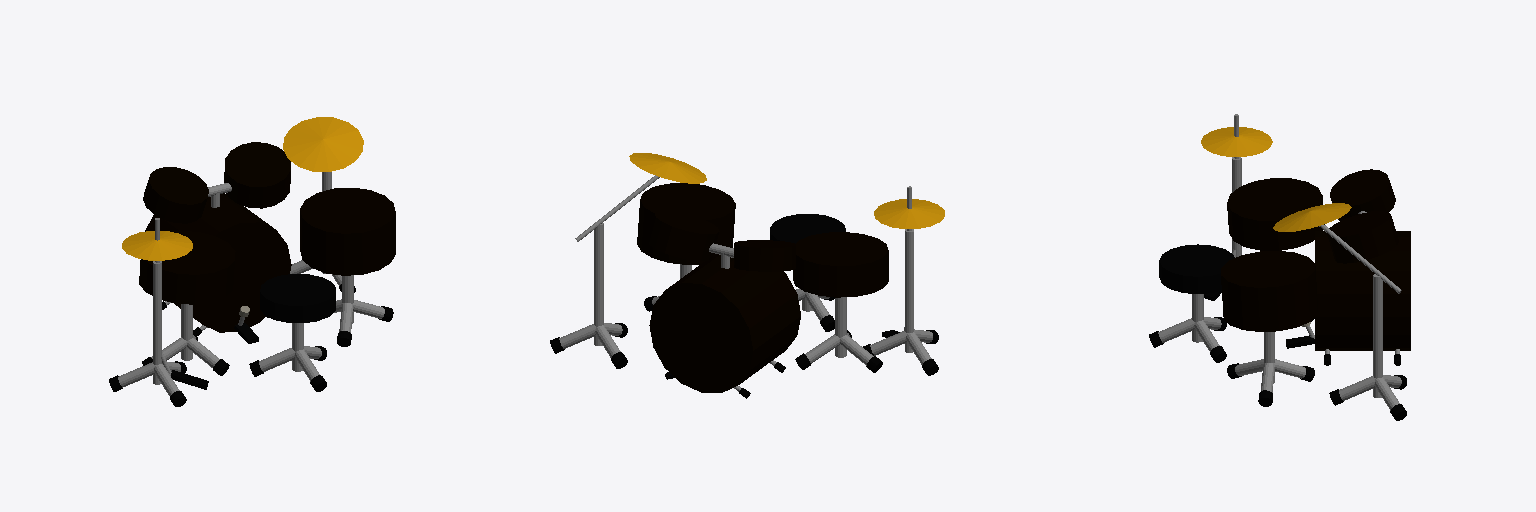
Rendered from Drums 1.obj.
3 renders of one model, left to right at view 1: azimuth 30°, elevation 25°; view 2: azimuth 150°, elevation 25°; view 3: azimuth 270°, elevation 25°, orthographic.
Parts seen in each view (by area): view 1: Cylinder.049, Cylinder.017, Cylinder.029, Cylinder.059, Cone.003, Cylinder, Cylinder.052_Cylinder.062, Cone.001, Cylinder.067_Cylinder.075, Cylinder.027; view 2: Cylinder.017, Cylinder.029, Cylinder.049, Cylinder.059, Cylinder.052_Cylinder.062, Cone.001, Cylinder, Cone.003, Cylinder.076_Cylinder.084, Cylinder.067_Cylinder.075, Cylinder.027; view 3: Cylinder.017, Cylinder.049, Cylinder.029, Cylinder, Cylinder.059, Cylinder.052_Cylinder.062, Cone.001, Cone.003, Cylinder.076_Cylinder.084.
Part boxes in pixels (x1,y1,x2,y2): Cylinder.049: (300, 188, 395, 275); Cylinder.017: (145, 193, 291, 332); Cylinder.029: (139, 231, 235, 304); Cylinder.059: (224, 142, 290, 208); Cone.003: (283, 117, 363, 171); Cylinder: (260, 274, 335, 322); Cylinder.052_Cylinder.062: (143, 167, 208, 223); Cone.001: (122, 231, 192, 260); Cylinder.067_Cylinder.075: (153, 261, 161, 384); Cylinder.027: (181, 304, 192, 360); Cylinder.017: (649, 254, 800, 392); Cylinder.029: (793, 232, 888, 297); Cylinder.049: (637, 183, 735, 264); Cylinder.059: (647, 211, 719, 260); Cylinder.052_Cylinder.062: (734, 240, 795, 271); Cone.001: (874, 199, 944, 228); Cylinder: (770, 214, 845, 243); Cone.003: (629, 153, 706, 183); Cylinder.076_Cylinder.084: (594, 222, 603, 345); Cylinder.067_Cylinder.075: (905, 229, 913, 352); Cylinder.027: (835, 297, 846, 357); Cylinder.017: (1315, 231, 1410, 350); Cylinder.049: (1221, 251, 1317, 331); Cylinder.029: (1227, 178, 1324, 250); Cylinder: (1159, 244, 1234, 293); Cylinder.059: (1327, 211, 1398, 263); Cylinder.052_Cylinder.062: (1330, 169, 1395, 220); Cone.001: (1201, 127, 1272, 156); Cone.003: (1273, 203, 1351, 231); Cylinder.076_Cylinder.084: (1373, 274, 1382, 397).
Bounding box in the file's own units: 7.61 × 4.16 × 5.45.